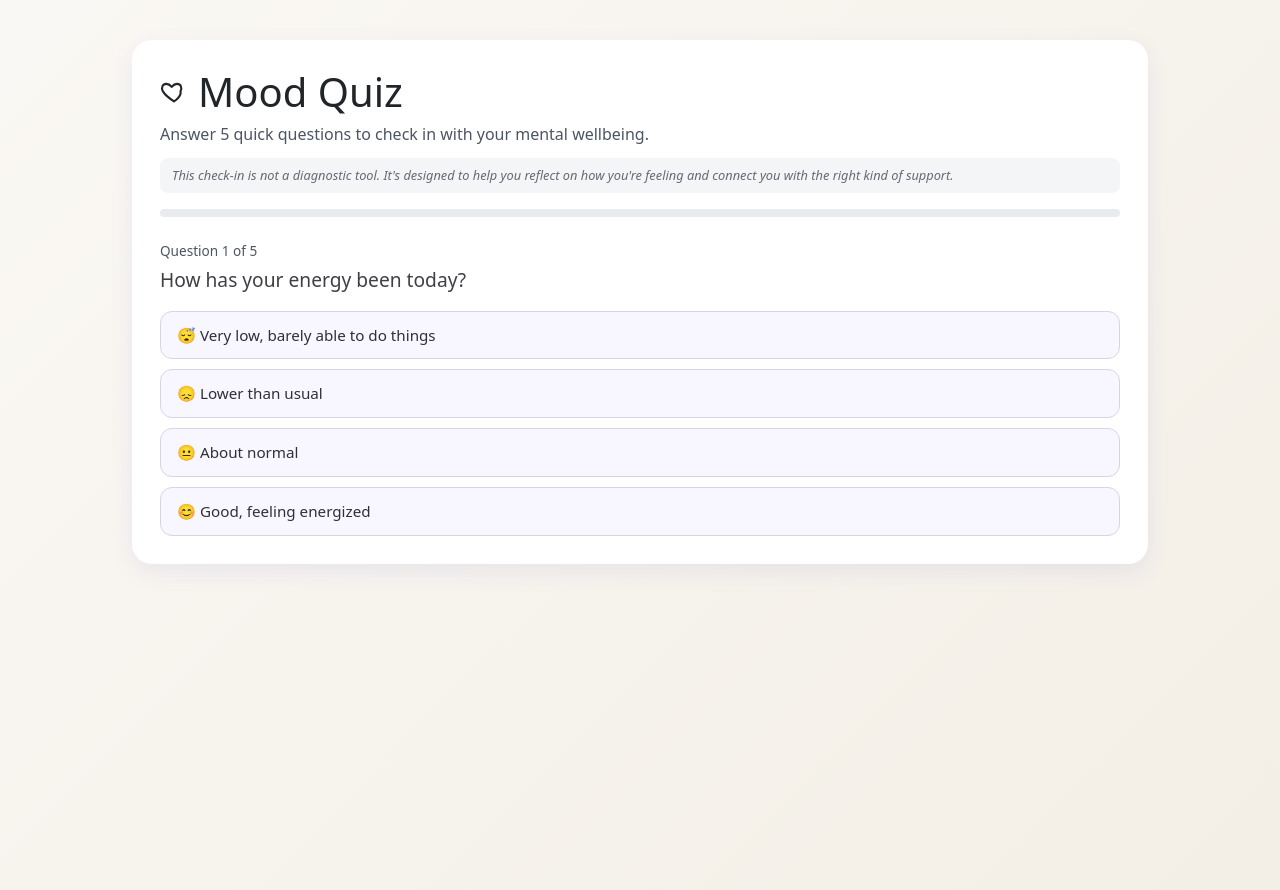
Scenario: MoodChecker quiz completion › walks through all 5 questions and shows a result screen
Click the button "😐 About normal". click: point(238, 452)
box: [160,428,1120,477]
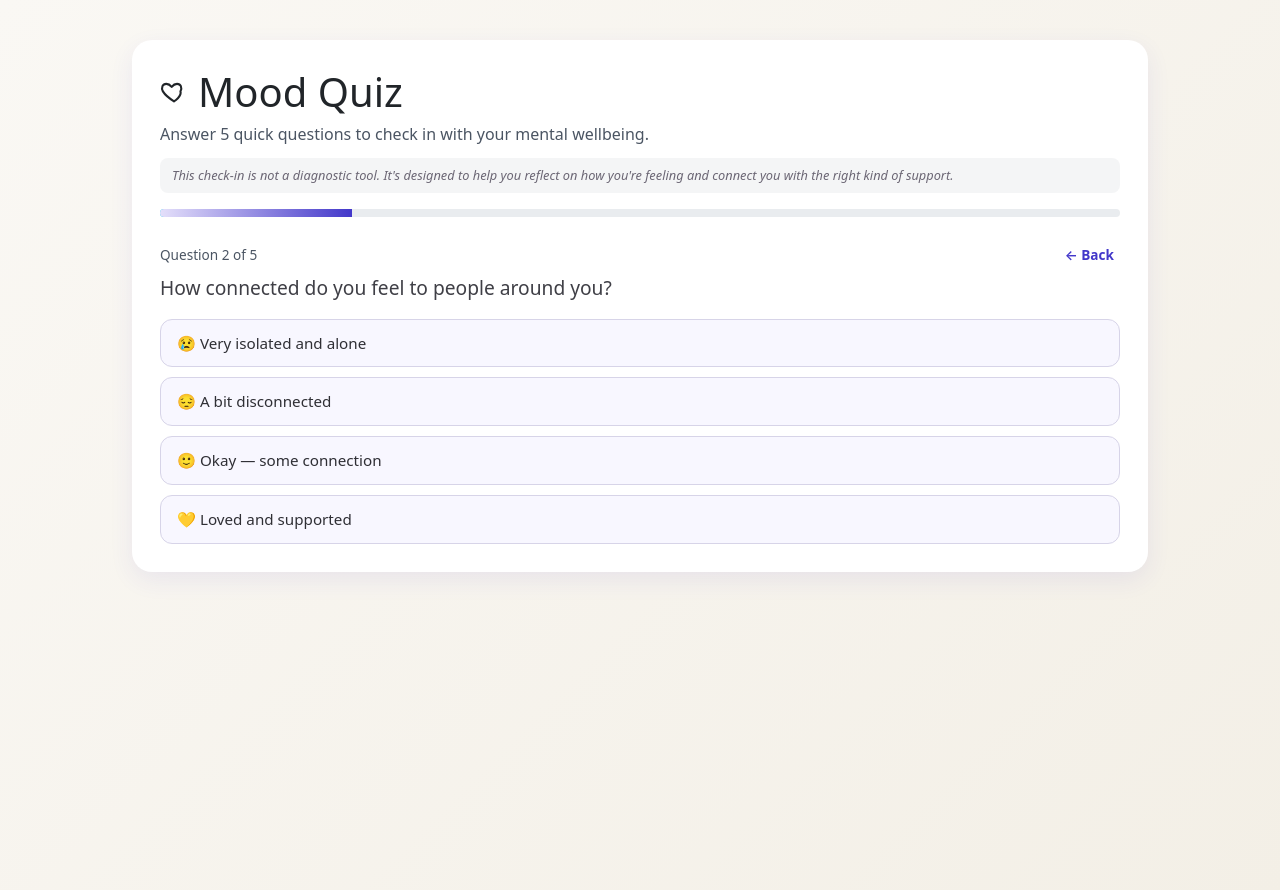
Click the button "🙂 Okay — some connection". click: point(279, 460)
box: [160,436,1120,485]
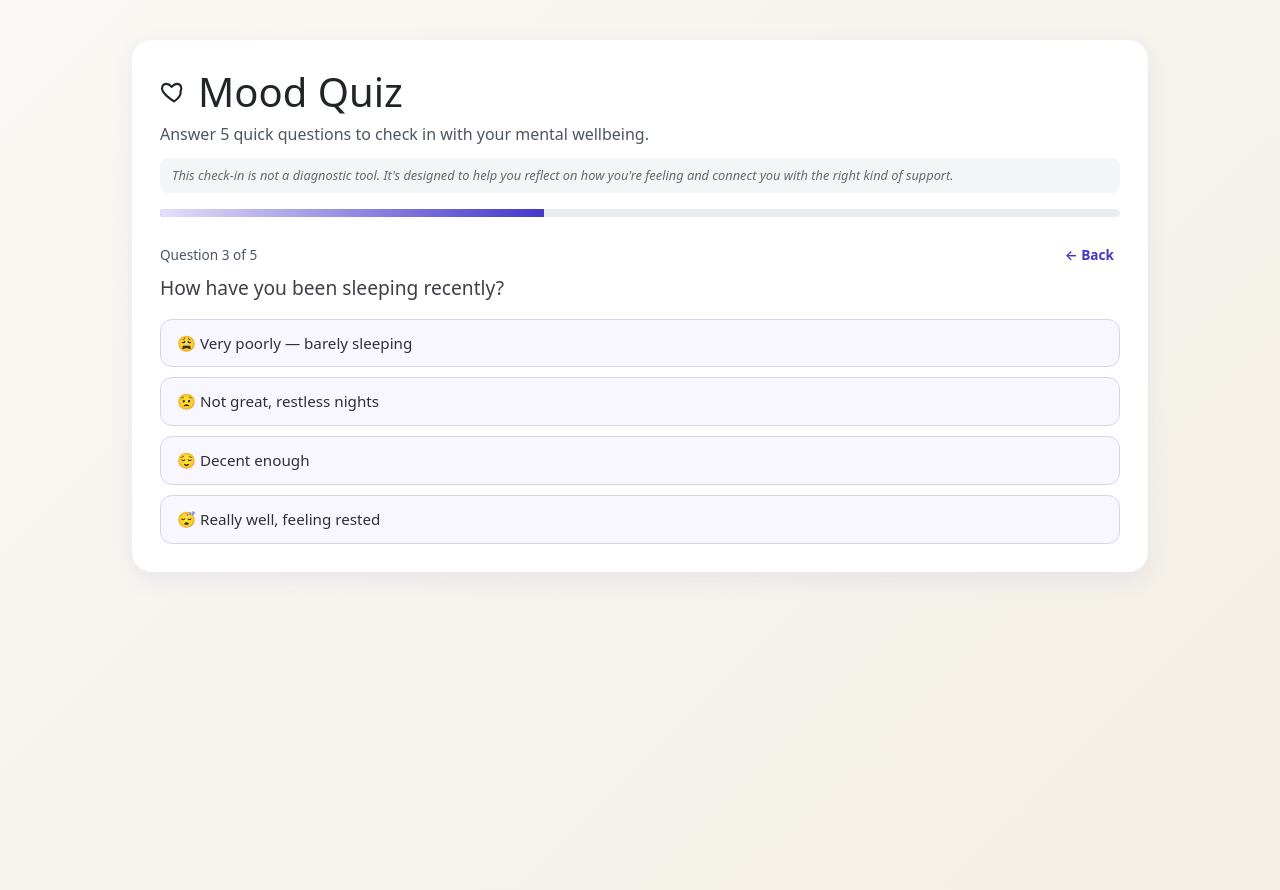
Click the button "😌 Decent enough". click: point(243, 460)
box: [160,436,1120,485]
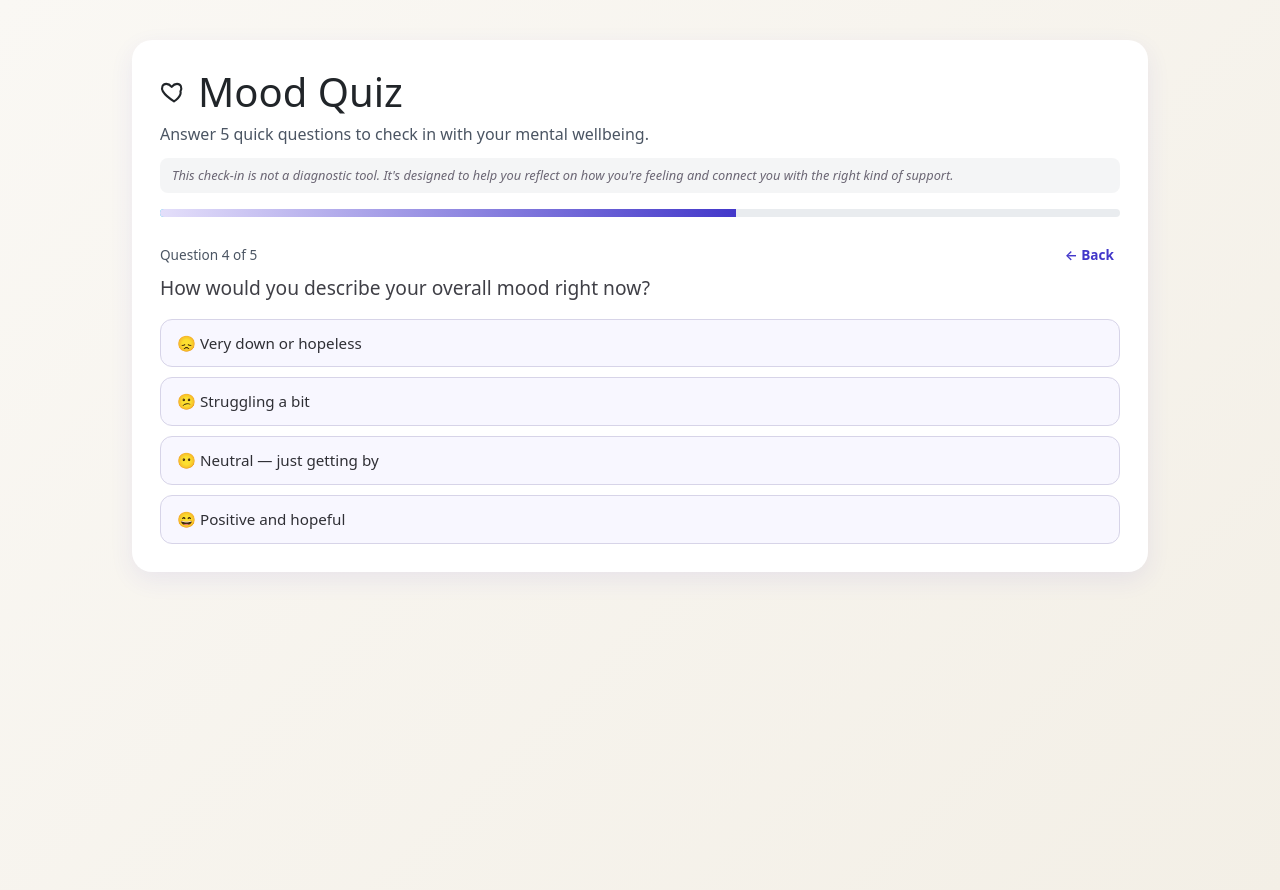
Click the button "😶 Neutral — just getting by". click: point(278, 460)
box: [160,436,1120,485]
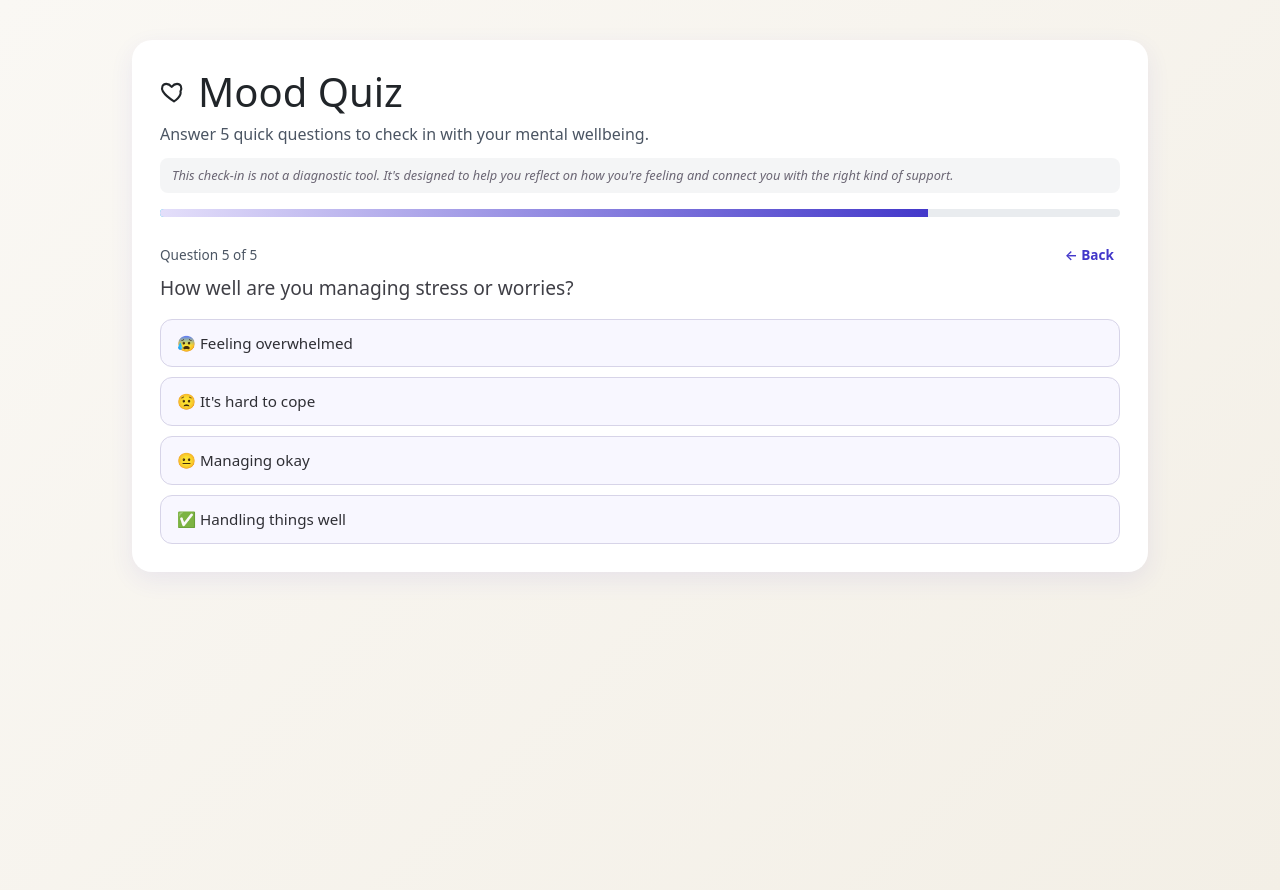
Click the button "😐 Managing okay". click: point(243, 460)
box: [160,436,1120,485]
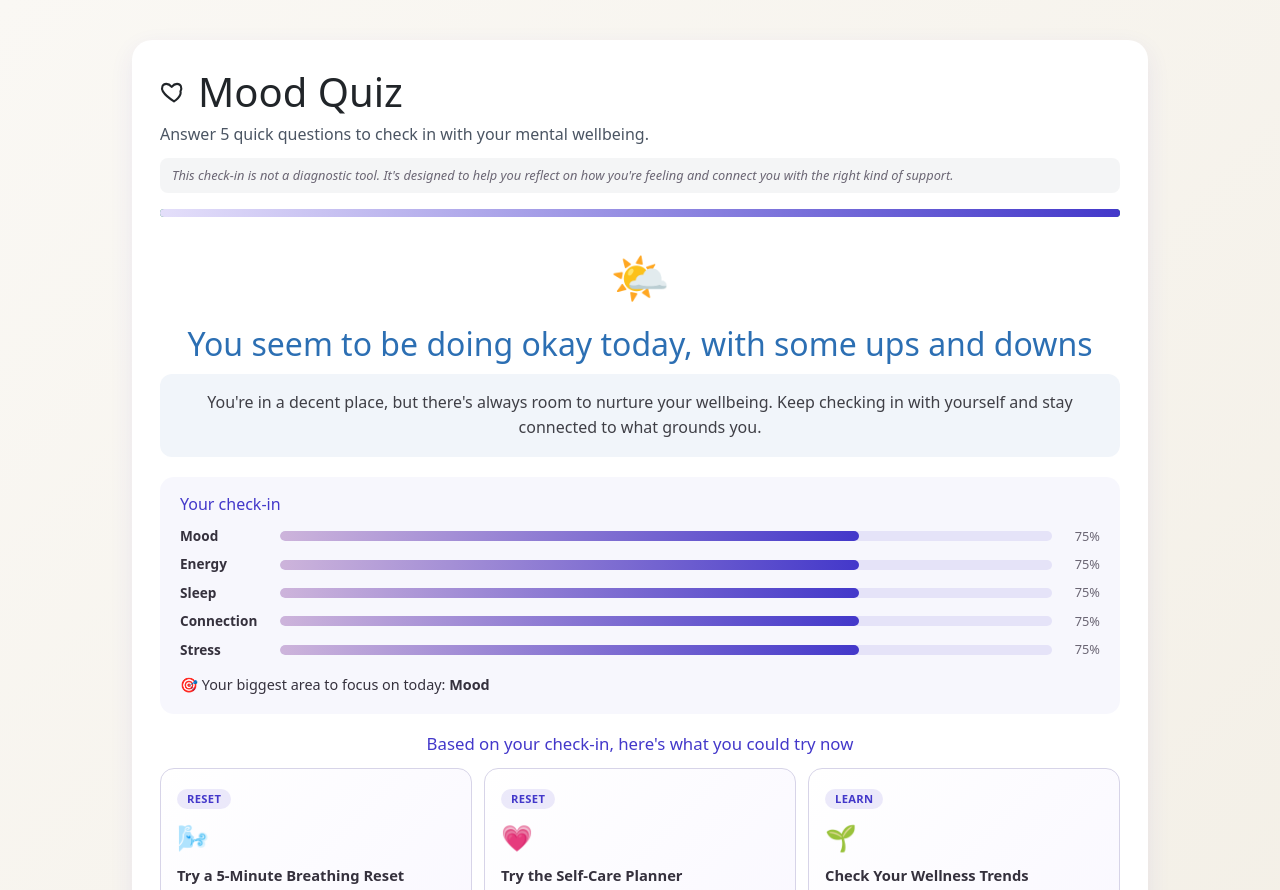
Expected: the heading "Your check-in" is shown, [180,493,281,515]
